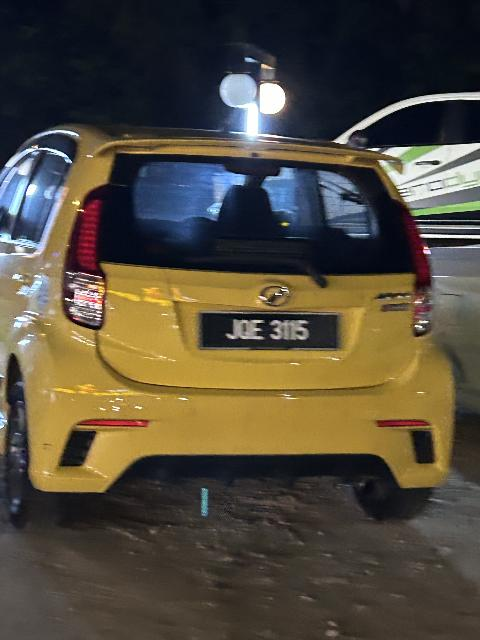License_Plate: (198, 312, 345, 353)
car: (2, 118, 457, 527)
